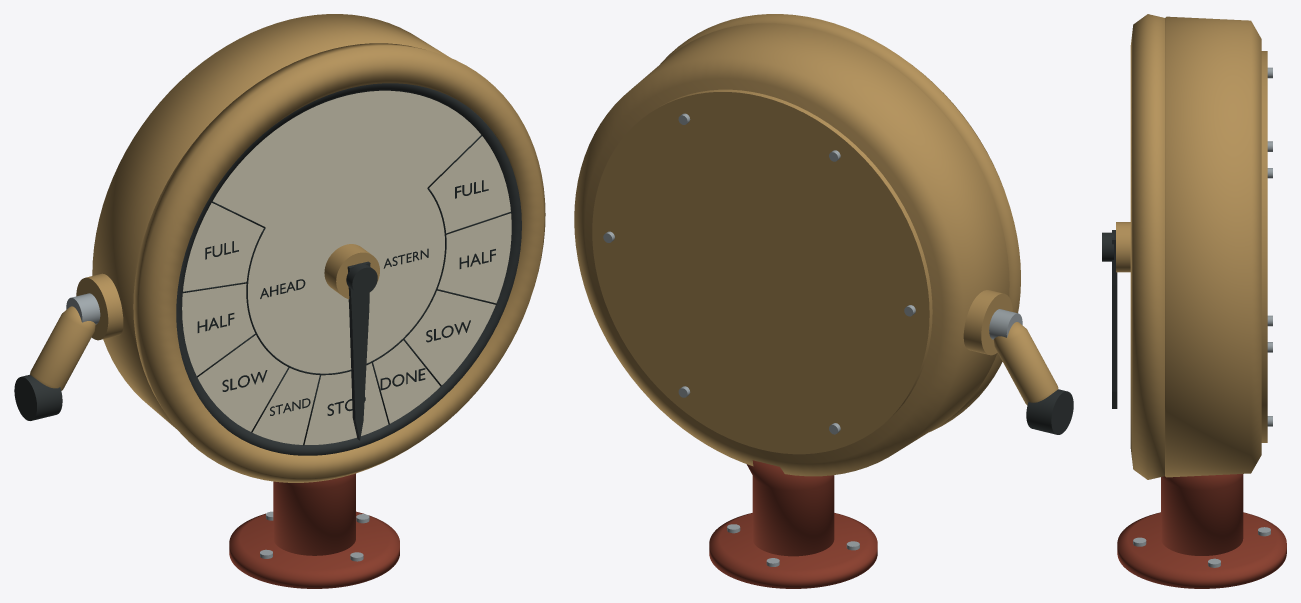
3 views of the same model, side by side, from view 1: azimuth 30°, elevation 25°; view 2: azimuth 150°, elevation 25°; view 3: azimuth 270°, elevation 25° (orthographic).
Parts seen in each view (by area): view 1: Solid pale command dial, Front raised brass bezel, Closed brass drum, Recessed dark dial retaining ring, Grounded circular mounting flange, Short mounting neck, Short inferred side linkage, Original downward command pointer, Left side pivot boss, Side linkage end cap, Pointer support boss, Inner order arc (+2 smaller); view 2: Generic rear circular cover, Closed brass drum, Grounded circular mounting flange, Front raised brass bezel, Short mounting neck, Short inferred side linkage, Left side pivot boss, Side linkage end cap, Left side shaft; view 3: Closed brass drum, Front raised brass bezel, Grounded circular mounting flange, Short mounting neck, Generic rear circular cover, Original downward command pointer, Pointer support boss, Pointer central cap.
Part boxes in pixels (x1,y1,x2,y2): Solid pale command dial: (182,90,511,444); Front raised brass bezel: (133,43,545,482); Closed brass drum: (92,14,450,430); Recessed dark dial retaining ring: (176,83,521,455); Grounded circular mounting flange: (229,511,399,588); Short mounting neck: (273,473,355,555); Short inferred side linkage: (30,306,95,390); Original downward command pointer: (347,261,370,440); Left side pivot boss: (76,273,123,340); Side linkage end cap: (14,374,62,420); Pointer support boss: (324,244,379,298); Inner order arc: (246,188,446,375); Generic rear circular cover: (592,89,932,454); Closed brass drum: (574,23,1009,476); Grounded circular mounting flange: (709,513,877,588); Front raised brass bezel: (660,14,1020,431); Short mounting neck: (746,460,834,556); Short inferred side linkage: (993,322,1058,405); Left side pivot boss: (963,290,1012,355); Side linkage end cap: (1026,389,1073,434); Left side shaft: (989,309,1022,339); Closed brass drum: (1165,16,1261,477); Front raised brass bezel: (1130,14,1164,479); Grounded circular mounting flange: (1117,512,1286,588); Short mounting neck: (1161,474,1243,555); Generic rear circular cover: (1261,51,1267,442); Original downward command pointer: (1112,230,1117,408); Pointer support boss: (1116,222,1130,272); Pointer central cap: (1102,232,1113,261).
Size of the model in its own units: 0.419 by 0.431 by 0.1395.
